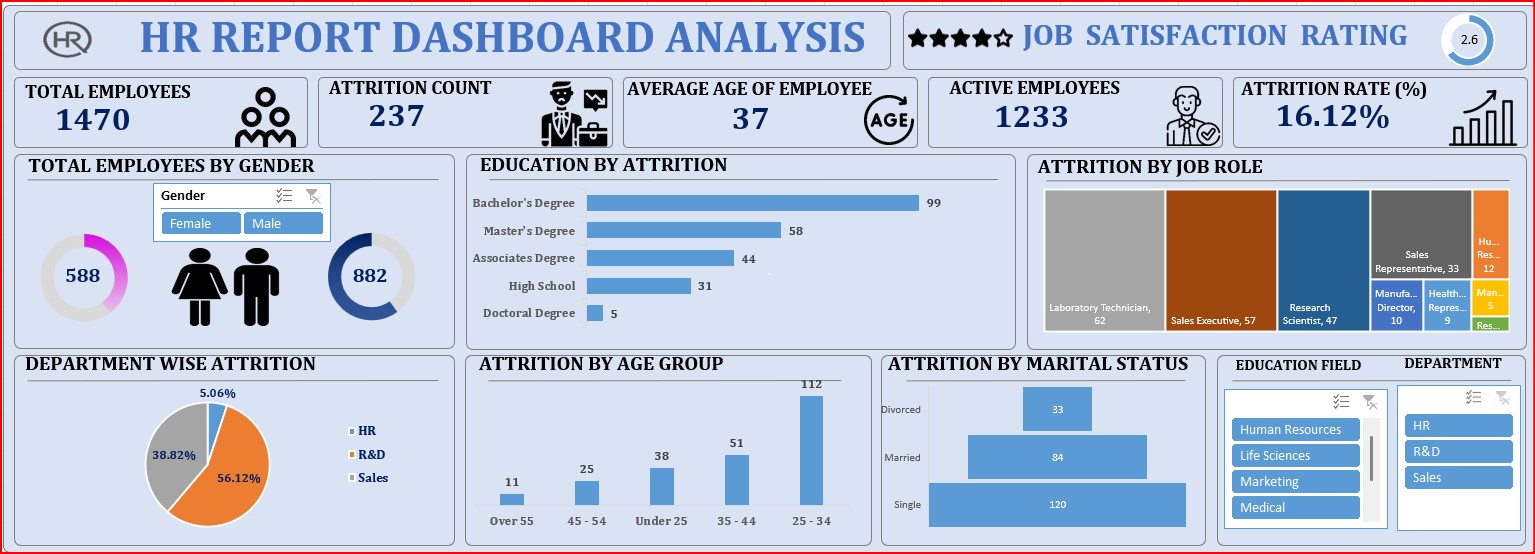

The dashboard page shown, as its layout file describes it:
{"tool":"powerbi","page":{"name":"hr_dashboard","canvas":[1280,720],"ordinal":0},"visuals":[{"type":"shape","box":[4.9,3.2,165.3,150.7],"z":0},{"type":"shape","box":[167.9,1.2,931,114.3],"z":1000},{"type":"textbox","box":[298.8,8.3,379.7,51.2],"z":2000},{"type":"shape","box":[196.3,7.4,90.7,68.5],"z":3000},{"type":"textbox","box":[298.8,44.6,264.1,31.4],"z":4000},{"type":"card","fields":{"Values":["CountNonNull(HR.EmployeeCount)"]},"box":[196.7,88.3,260,121.7],"z":5000},{"type":"card","fields":{"Values":["HR.YesCount"]},"box":[485.3,85.8,293.8,122.1],"z":6000},{"type":"card","fields":{"Values":["HR.active emp"]},"box":[800.6,85.8,280.6,122.1],"z":7000},{"type":"image","box":[198.3,108.3,66.7,70],"z":8000},{"type":"image","box":[218.5,18.5,46.3,46.3],"z":9000},{"type":"textbox","box":[1100,8.3,179.2,158.3],"z":10000},{"type":"image","box":[1100,68.8,104.2,39.6],"z":12000},{"type":"image","box":[473.7,85.8,105.6,105.6],"z":13000},{"type":"textbox","box":[509,125.4,36.9,28.7],"z":14000},{"type":"textbox","box":[825.3,125.5,38,28.1],"z":15000},{"type":"image","box":[792.3,92.4,92.4,95.7],"z":16000},{"type":"tableEx","title":"Total Attrition by Employees job Role","fields":{"Values":["HR.JobRole","HR.YesCount"]},"box":[167,225.3,264.2,359.8],"z":17000},{"type":"slicer","fields":{"Values":["HR.Department"]},"box":[800,8.6,278.6,62.9],"z":18000},{"type":"barChart","title":"Total Attrition by Employees Field","fields":{"Category":["HR.EducationField"],"Y":["HR.YesCount"]},"box":[461.7,230,353.3,221.7],"z":19000},{"type":"slicer","fields":{"Values":["HR.Gender"]},"box":[51.9,25.9,110.2,119.9],"z":20000},{"type":"group","id":"g1","title":"Group 1","box":[25.9,50.2,48.6,102.1],"z":21000},{"type":"image","box":[25.9,107.4,48.2,44.4],"z":21000,"group":"g1"},{"type":"image","box":[25.9,50.2,48.2,40.9],"z":22000,"group":"g1"},{"type":"clusteredColumnChart","fields":{"Y":["HR.YesCount"],"Category":["HR.AgeGroup"],"Series":["HR.Gender"]},"box":[826,226,454,226],"z":22000},{"type":"image","box":[1116.7,3.3,25,53.3],"z":23000},{"type":"barChart","title":" Total Attrition by Gender","fields":{"Category":["HR.Gender"],"Y":["HR.YesCount"]},"box":[729.4,473.3,265.8,246.4],"z":24000},{"type":"donutChart","fields":{"Category":["HR.Department"],"Y":["HR.YesCount"]},"box":[1001.7,473.3,278.8,246.4],"z":25000},{"type":"donutChart","title":"Total Attrition  by BusinessTravel","fields":{"Category":["HR.BusinessTravel"],"Y":["HR.YesCount"]},"box":[431.2,452.2,278.8,236.7],"z":26000},{"type":"donutChart","fields":{"Category":["HR.BusinessTravel"],"Y":["HR.YesCount"]},"box":[460.9,539.1,218.2,104.5],"z":27000},{"type":"donutChart","fields":{"Y":["HR.YesCount"],"Category":["HR.BusinessTravel"]},"box":[496.4,509.1,148.2,163.6],"z":28000},{"type":"textbox","box":[405.5,652.7,267.3,67.3],"z":29000},{"type":"card","title":"Total Average Job Role Attrition ","fields":{"Values":["HR.YesCount average per JobRole"]},"box":[203.3,586.7,201.7,131.7],"z":30000},{"type":"image","box":[178.3,591.7,25,28.3],"z":31000},{"type":"image","box":[186.7,648.3,105,71.7],"z":32000},{"type":"columnChart","title":"Attrition by Environment Satisfaction","fields":{"Category":["HR.EnvironmentSatisfactionDesc"],"Y":["HR.YesCount"]},"box":[0,340,162,380],"z":32002},{"type":"slicer","fields":{"Values":["HR.MaritalStatus"]},"box":[4,226,156,86],"z":32003}]}

Visuals, with their boxes in screenshot pixels (x1, y1, x2, y2):
shape: rect(147, 22, 269, 133)
shape: rect(267, 21, 951, 105)
textbox: rect(363, 26, 642, 64)
shape: rect(288, 25, 355, 76)
textbox: rect(363, 53, 557, 76)
card - CountNonNull(HR.EmployeeCount): rect(288, 85, 479, 174)
card - HR.YesCount: rect(500, 83, 716, 173)
card - HR.active emp: rect(732, 83, 938, 173)
image: rect(289, 100, 338, 151)
image: rect(304, 34, 338, 68)
textbox: rect(951, 26, 1083, 142)
image: rect(951, 71, 1028, 100)
image: rect(492, 83, 569, 161)
textbox: rect(518, 112, 545, 133)
textbox: rect(750, 112, 778, 133)
image: rect(726, 88, 793, 158)
"Total Attrition by Employees job Role" tableEx: rect(266, 185, 460, 450)
slicer - HR.Department: rect(731, 26, 936, 73)
"Total Attrition by Employees Field" barChart: rect(483, 189, 742, 352)
slicer - HR.Gender: rect(182, 39, 263, 127)
"Group 1" group: rect(163, 57, 199, 132)
image: rect(163, 99, 198, 131)
image: rect(163, 57, 198, 87)
clusteredColumnChart - HR.YesCount x HR.AgeGroup: rect(750, 186, 1084, 352)
image: rect(964, 22, 982, 62)
" Total Attrition by Gender" barChart: rect(679, 367, 874, 548)
donutChart - HR.Department x HR.YesCount: rect(879, 367, 1084, 548)
"Total Attrition  by BusinessTravel" donutChart: rect(460, 352, 665, 526)
donutChart - HR.BusinessTravel x HR.YesCount: rect(482, 416, 642, 492)
donutChart - HR.YesCount x HR.BusinessTravel: rect(508, 394, 617, 514)
textbox: rect(442, 499, 638, 549)
"Total Average Job Role Attrition " card: rect(293, 451, 441, 547)
image: rect(275, 454, 293, 475)
image: rect(281, 496, 358, 549)
"Attrition by Environment Satisfaction" columnChart: rect(144, 270, 263, 549)
slicer - HR.MaritalStatus: rect(147, 186, 261, 249)
